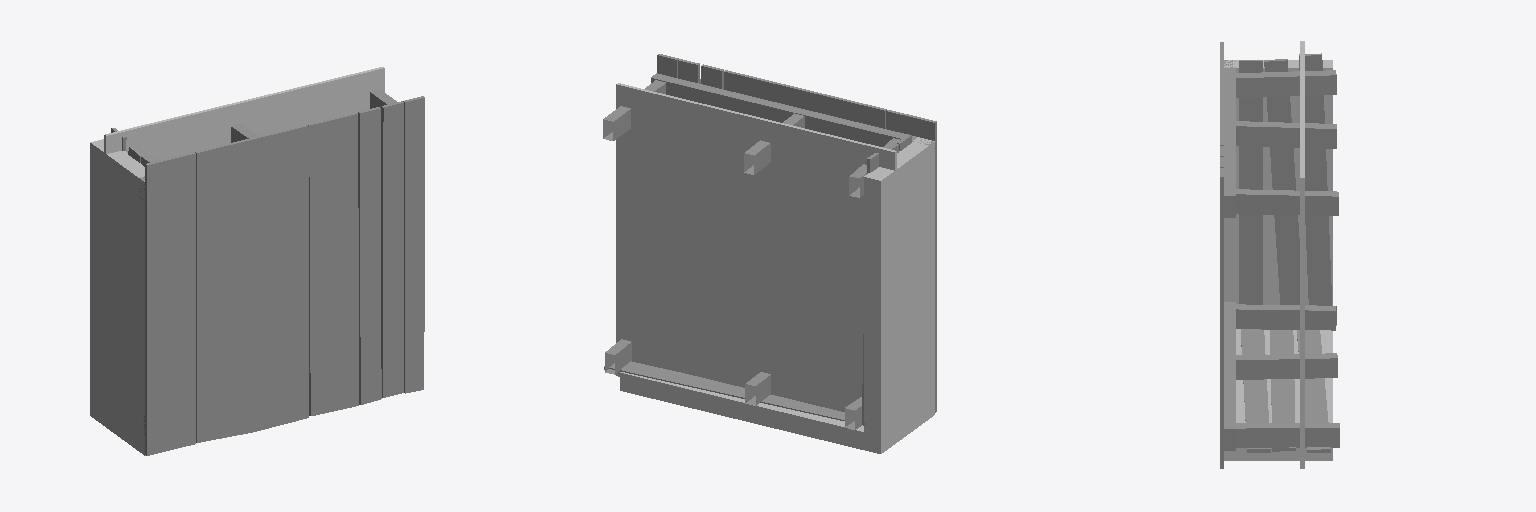
Rendered from ext_oldwood_platform_4x4m_c.obj.
The picture shows the model from 3 angles: view 1: azimuth 30°, elevation 25°; view 2: azimuth 150°, elevation 25°; view 3: azimuth 270°, elevation 25°; orthographic projection.
Parts seen in each view (by area): view 1: g_oldwood, c_box_003, c_box_001; view 2: c_box_001, c_box_003, g_oldwood, c_box_002; view 3: g_oldwood, c_box_003, c_box_002, c_box_001.
Part boxes in pixels (x1,y1,x2,y2): g_oldwood: (111,90,424,455); c_box_003: (90,139,144,455); c_box_001: (104,67,384,159); c_box_001: (616,83,896,411); c_box_003: (864,137,934,453); g_oldwood: (603,54,936,429); c_box_002: (620,372,933,453); g_oldwood: (1220,42,1339,468); c_box_003: (1224,60,1332,305); c_box_002: (1224,329,1332,460); c_box_001: (1300,41,1304,468).
Bounding box in the file's own units: 400 × 402 × 149.